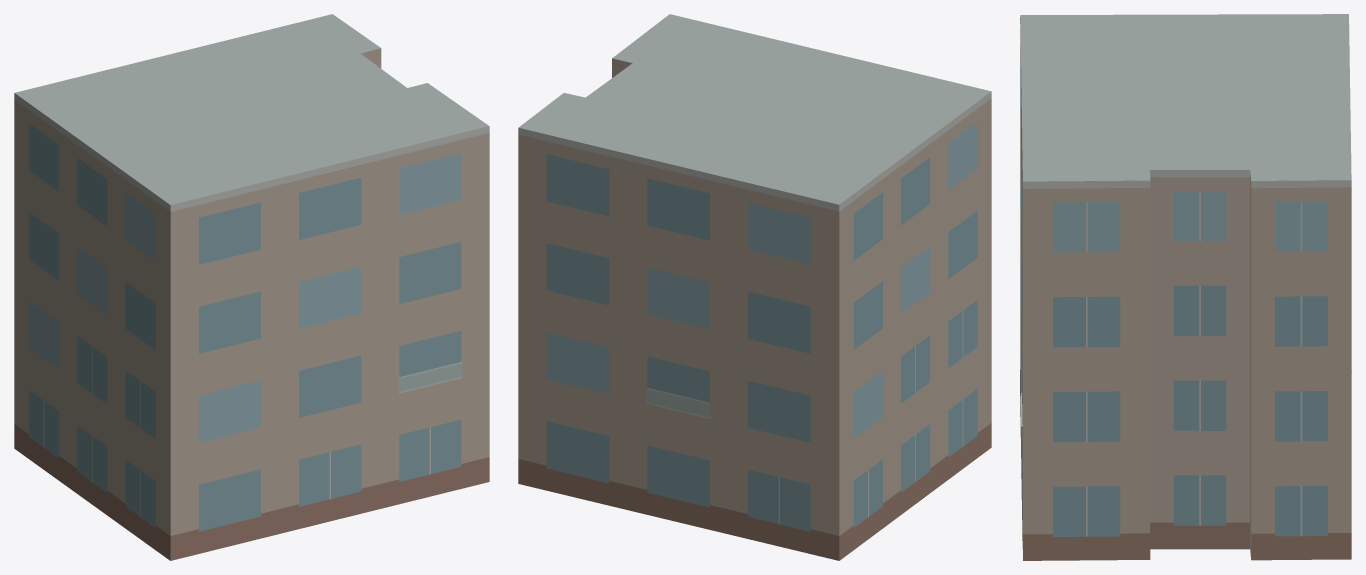
The model's file is survey-upis-32532533.glb.
3 views of the same model, side by side, from view 1: azimuth 30°, elevation 25°; view 2: azimuth 150°, elevation 25°; view 3: azimuth 270°, elevation 25° (orthographic). The views are drawn at different scales.
Parts seen in each view (by area): view 1: survey-upis-32532533.tmp; view 2: survey-upis-32532533.tmp; view 3: survey-upis-32532533.tmp.
Boxes of the visible parts, <box> form: survey-upis-32532533.tmp: <box>14,14,489,560</box>; survey-upis-32532533.tmp: <box>518,14,991,560</box>; survey-upis-32532533.tmp: <box>1020,14,1351,560</box>.
Size of the model in its own units: 12.15 by 12.8 by 10.15.
